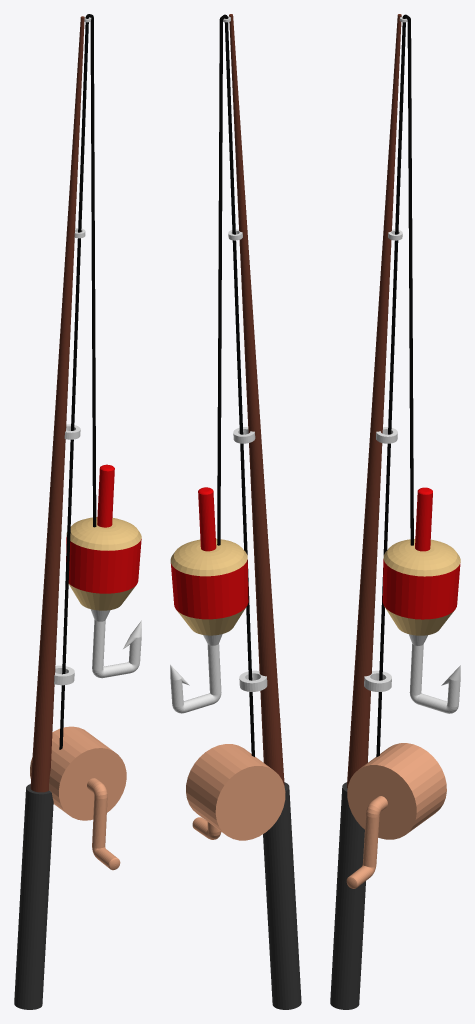
The model's file is UDOCHKA.fbx.
The picture shows the model from 3 angles, left to right: view 1: azimuth 30°, elevation 25°; view 2: azimuth 210°, elevation 25°; view 3: azimuth 330°, elevation 25°; orthographic projection. The views are drawn at different scales.
Parts seen in each view (by area): view 1: Цилиндр.001, Цилиндр.003, Цилиндр.002, Цилиндр.012, Цилиндр.011; view 2: Цилиндр.001, Цилиндр.003, Цилиндр.002, Цилиндр.012, Цилиндр.011; view 3: Цилиндр.001, Цилиндр.003, Цилиндр.002, Цилиндр.012, Цилиндр.011.
Boxes of the visible parts, x1,y1,x2,y2 form: Цилиндр.001: (14,16,84,1009); Цилиндр.003: (66,464,141,678); Цилиндр.002: (30,726,126,870); Цилиндр.012: (59,14,96,749); Цилиндр.011: (54,16,91,685); Цилиндр.001: (229,14,301,1009); Цилиндр.003: (170,487,248,713); Цилиндр.002: (186,744,285,840); Цилиндр.012: (217,14,254,756); Цилиндр.011: (223,16,267,691); Цилиндр.001: (330,14,401,1009); Цилиндр.003: (382,487,460,713); Цилиндр.002: (346,743,446,888); Цилиндр.012: (376,14,413,757); Цилиндр.011: (364,16,407,691).
Bounding box in the file's own units: 44.77 × 333 × 36.53.
